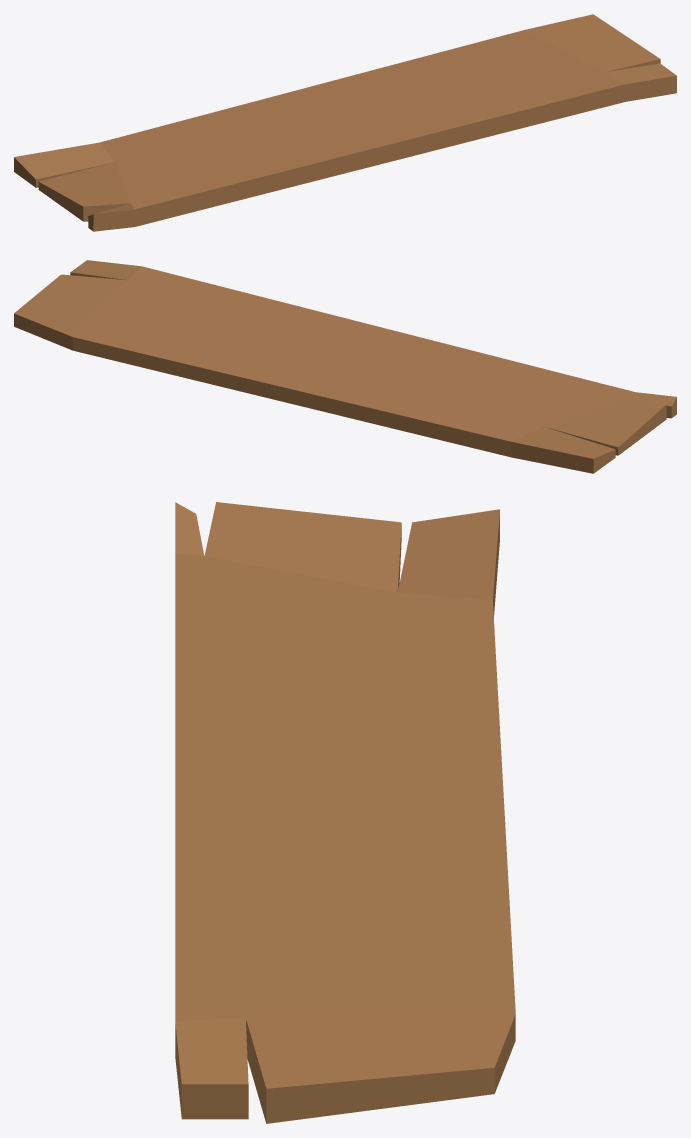
Rendered from plank01.fbx.
3 renders of one model, top to bottom at view 1: azimuth 30°, elevation 25°; view 2: azimuth 150°, elevation 25°; view 3: azimuth 270°, elevation 25°, orthographic. The views are drawn at different scales.
Parts seen in each view (by area): view 1: Plane.004; view 2: Plane.004; view 3: Plane.004.
Boxes of the visible parts, box(x1,y1,x2,y2) form: Plane.004: box(14, 14, 676, 231); Plane.004: box(14, 260, 676, 473); Plane.004: box(175, 502, 515, 1123).
Size of the model in its own units: 8 by 0.3265 by 2.
